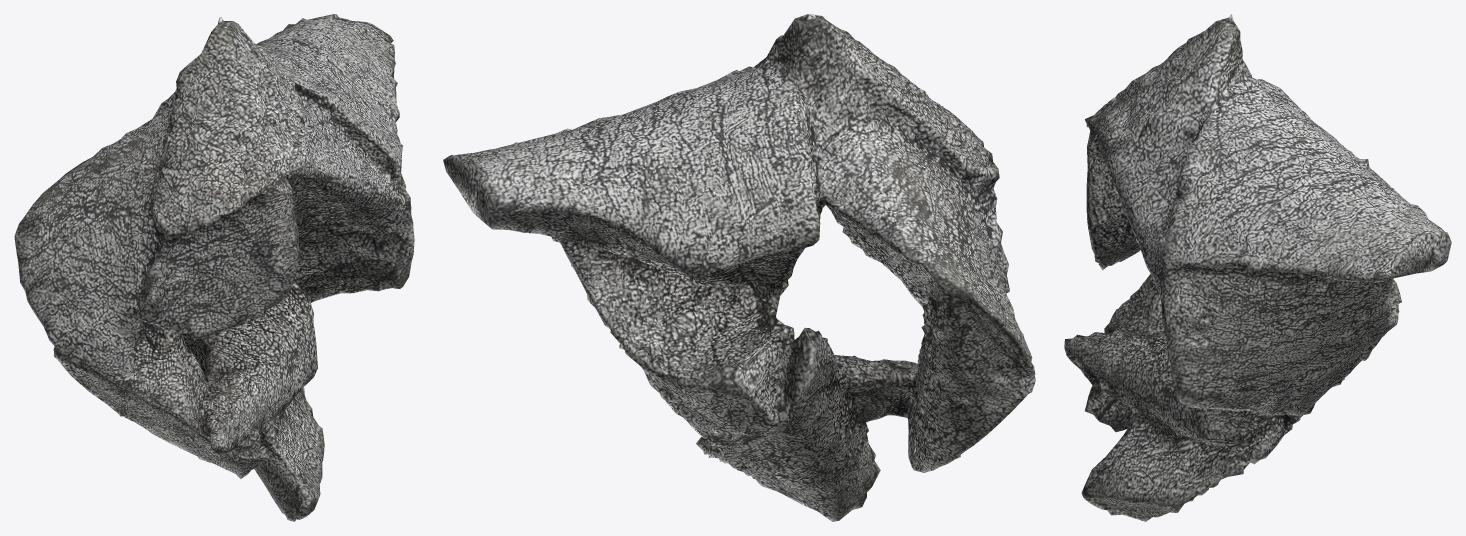
The model's file is 16_booger.glb.
3 views of the same model, side by side, from view 1: azimuth 30°, elevation 25°; view 2: azimuth 150°, elevation 25°; view 3: azimuth 270°, elevation 25° (orthographic). The views are drawn at different scales.
Visible parts, largest first — view 1: Group47094; view 2: Group47094; view 3: Group47094.
Part boxes in pixels (bbox=[...]): Group47094: bbox=[14, 14, 414, 521]; Group47094: bbox=[443, 14, 1035, 521]; Group47094: bbox=[1064, 14, 1451, 521].
Size of the model in its own units: 7.73 by 8.05 by 5.7.
Materials: 1 (1 with a texture image).
